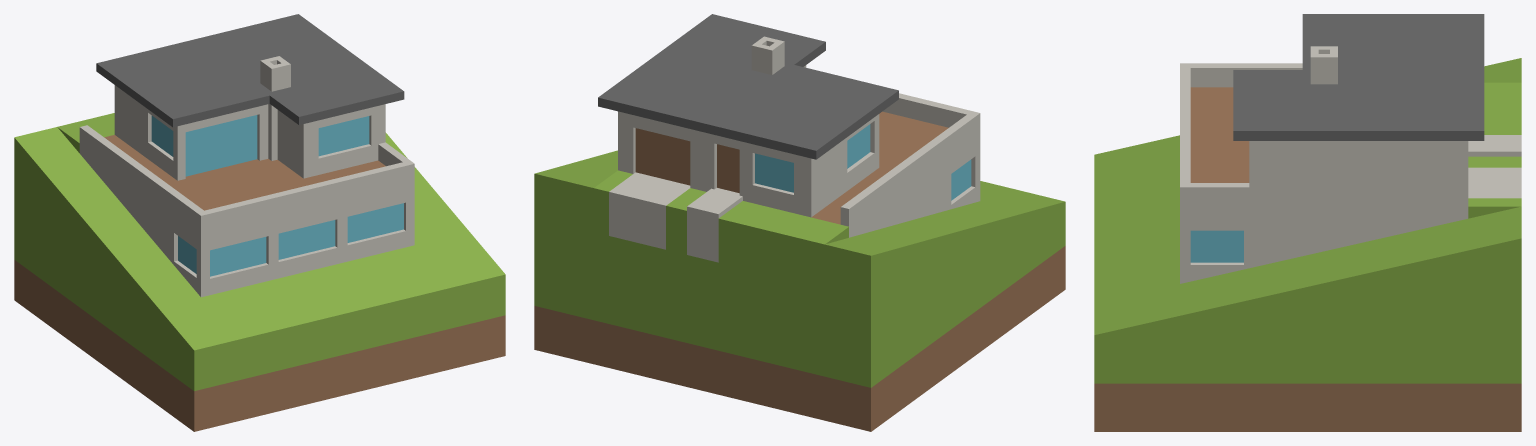
The model's file is house-hill-normal.obj.
3 renders of one model, left to right at view 1: azimuth 30°, elevation 25°; view 2: azimuth 150°, elevation 25°; view 3: azimuth 270°, elevation 25°, orthographic. The views are drawn at different scales.
Visible parts, largest first — view 1: house-hill-normal_Cube.028; view 2: house-hill-normal_Cube.028; view 3: house-hill-normal_Cube.028.
Part boxes in pixels (box(x1,y1,x2,y2)): house-hill-normal_Cube.028: box(14, 14, 505, 431); house-hill-normal_Cube.028: box(534, 14, 1065, 431); house-hill-normal_Cube.028: box(1094, 14, 1521, 431).
Size of the model in its own units: 8 by 6.26 by 8.
1 material, 1 textured.
